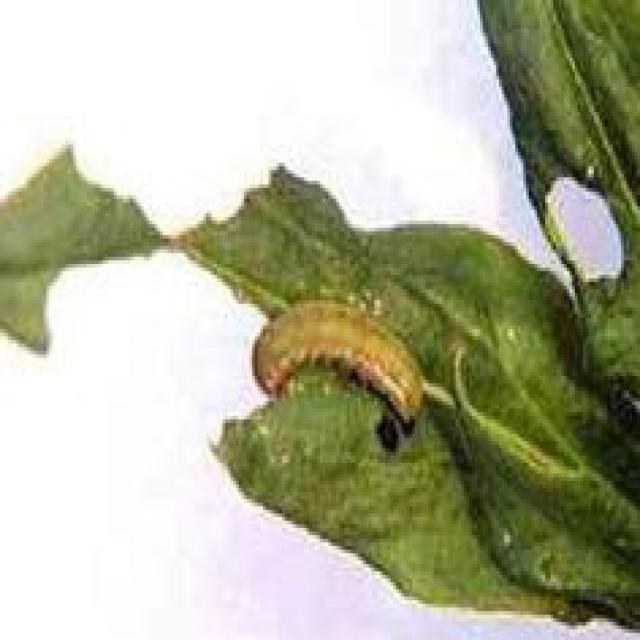BeetArmyWorm-Larva-: (240, 294, 432, 434)
